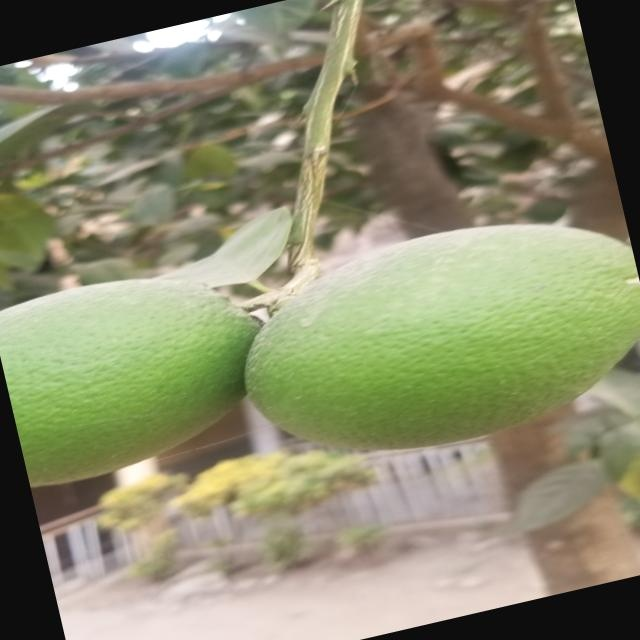agrume: (217, 191, 640, 474), (0, 247, 278, 488)
